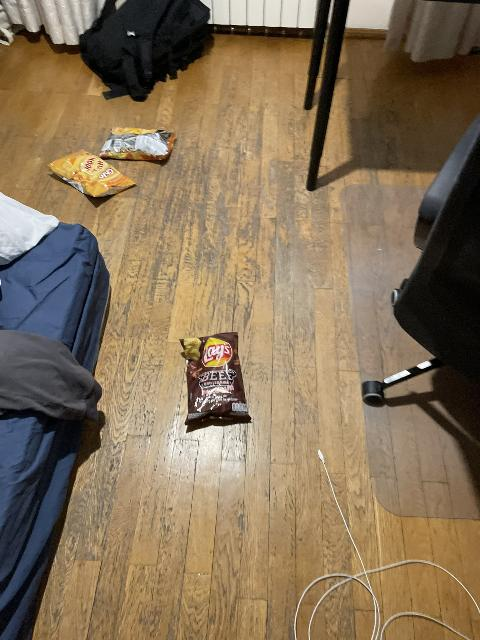Chio Cascaval 125g: (99, 126, 176, 161)
Chio Hula Hoops Cheese 70g: (46, 151, 139, 199)
Lays Beef Grilled Ribs 125g: (179, 332, 254, 427)
